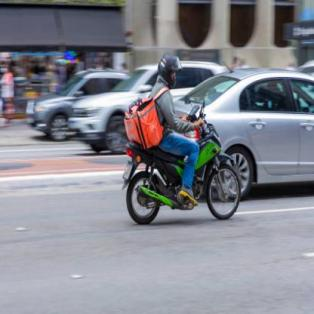Motocicleta: (121, 109, 243, 223)
